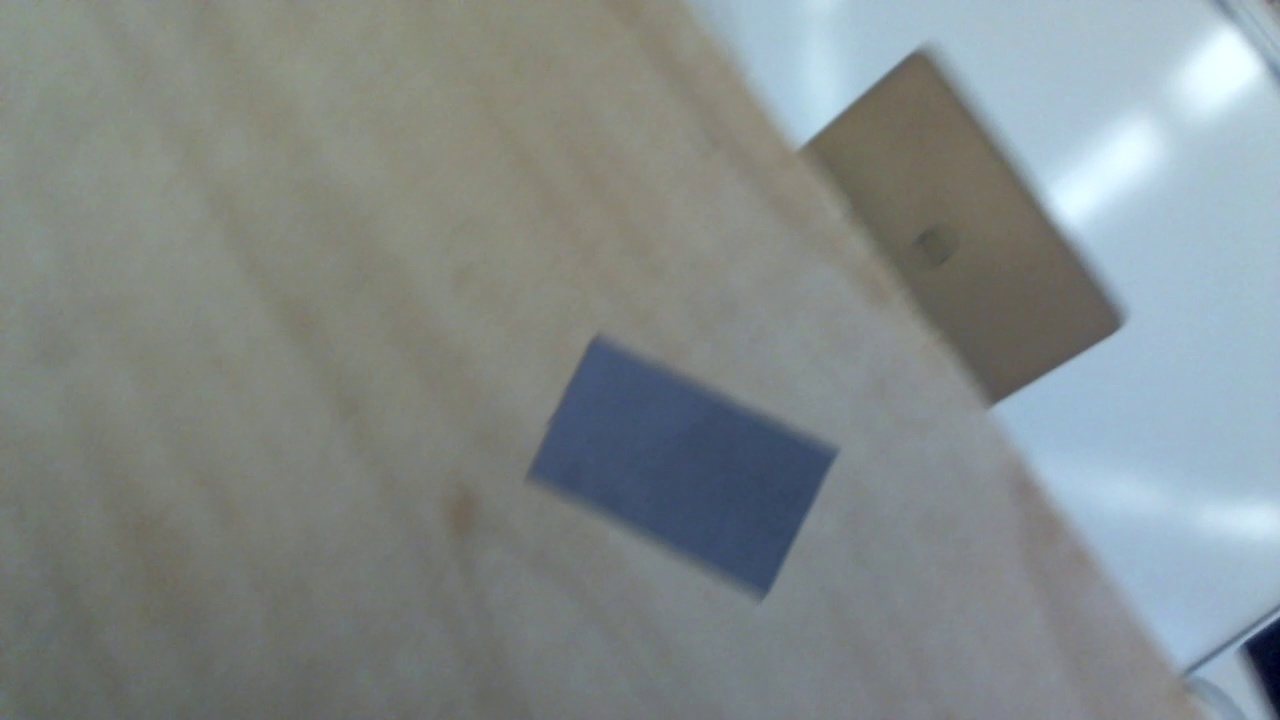Tape: (526, 332, 840, 601)
